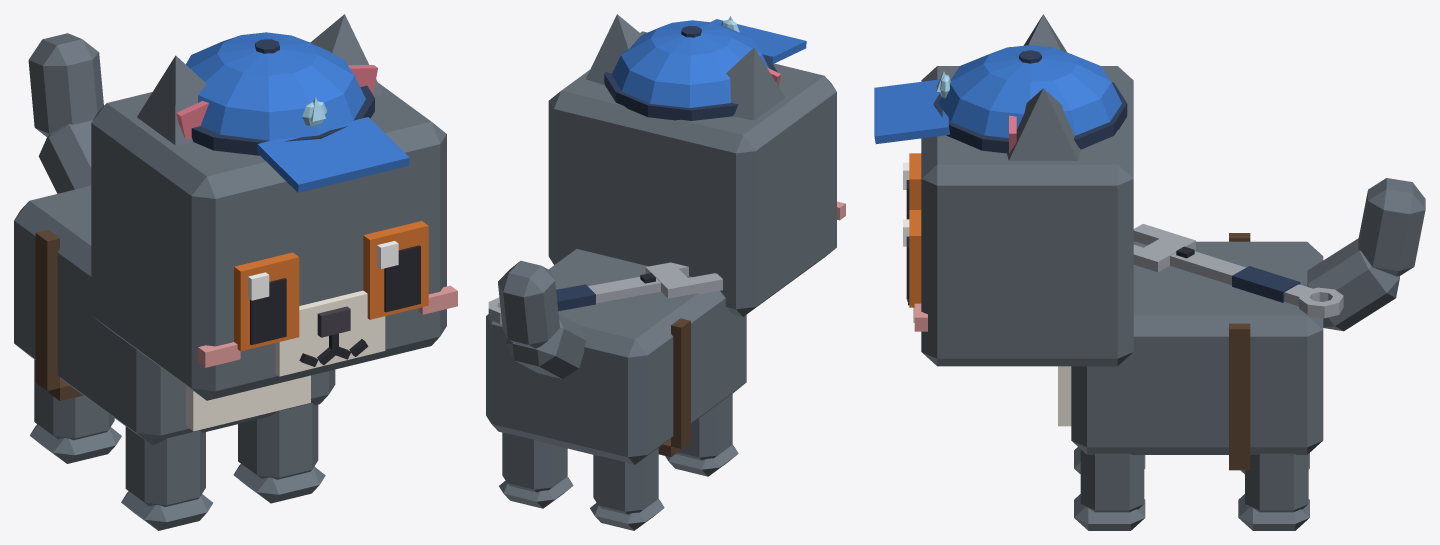
The model's file is CatCafe_Cat_Plumber.glb.
3 renders of one model, left to right at view 1: azimuth 30°, elevation 25°; view 2: azimuth 150°, elevation 25°; view 3: azimuth 270°, elevation 25°, orthographic. The views are drawn at different scales.
Visible parts, largest first — view 1: CatCafe_Cat_Plumber_Head, CatCafe_Cat_Plumber_Body, CatCafe_Cat_Plumber_Prop, CatCafe_Cat_Plumber_Tail, CatCafe_Cat_Plumber_LegF2, CatCafe_Cat_Plumber_LegF1, CatCafe_Cat_Plumber_Eye2, CatCafe_Cat_Plumber_Eye1, CatCafe_Cat_Plumber_LegB2, CatCafe_Cat_Plumber_Prop2, CatCafe_Cat_Plumber_EarR, CatCafe_Cat_Plumber_EarL; view 2: CatCafe_Cat_Plumber_Head, CatCafe_Cat_Plumber_Body, CatCafe_Cat_Plumber_Prop, CatCafe_Cat_Plumber_Tail, CatCafe_Cat_Plumber_Prop2, CatCafe_Cat_Plumber_LegB2, CatCafe_Cat_Plumber_LegB1, CatCafe_Cat_Plumber_LegF2, CatCafe_Cat_Plumber_EarR, CatCafe_Cat_Plumber_EarL; view 3: CatCafe_Cat_Plumber_Head, CatCafe_Cat_Plumber_Body, CatCafe_Cat_Plumber_Prop, CatCafe_Cat_Plumber_Prop2, CatCafe_Cat_Plumber_Tail, CatCafe_Cat_Plumber_LegF1, CatCafe_Cat_Plumber_LegB1, CatCafe_Cat_Plumber_EarL, CatCafe_Cat_Plumber_Eye1, CatCafe_Cat_Plumber_Eye2, CatCafe_Cat_Plumber_EarR.
Boxes of the visible parts, x1,y1,x2,y2 form: CatCafe_Cat_Plumber_Head: (91,82,457,400); CatCafe_Cat_Plumber_Body: (14,186,335,444); CatCafe_Cat_Plumber_Prop: (186,32,409,192); CatCafe_Cat_Plumber_Tail: (28,33,103,193); CatCafe_Cat_Plumber_LegF2: (121,426,212,530); CatCafe_Cat_Plumber_LegF1: (233,403,325,503); CatCafe_Cat_Plumber_Eye2: (234,252,299,351); CatCafe_Cat_Plumber_Eye1: (363,221,428,319); CatCafe_Cat_Plumber_LegB2: (30,359,121,463); CatCafe_Cat_Plumber_Prop2: (35,230,83,401); CatCafe_Cat_Plumber_EarR: (137,55,208,145); CatCafe_Cat_Plumber_EarL: (310,14,383,96); CatCafe_Cat_Plumber_Head: (548,31,845,316); CatCafe_Cat_Plumber_Body: (486,249,746,464); CatCafe_Cat_Plumber_Prop: (604,16,806,120); CatCafe_Cat_Plumber_Tail: (498,260,586,378); CatCafe_Cat_Plumber_Prop2: (488,262,722,457); CatCafe_Cat_Plumber_LegB2: (590,448,664,530); CatCafe_Cat_Plumber_LegB1: (499,432,573,508); CatCafe_Cat_Plumber_LegF2: (665,393,738,476); CatCafe_Cat_Plumber_EarR: (726,47,785,120); CatCafe_Cat_Plumber_EarL: (586,14,641,85); CatCafe_Cat_Plumber_Head: (907,66,1133,366); CatCafe_Cat_Plumber_Body: (1058,241,1323,454); CatCafe_Cat_Plumber_Prop: (874,45,1127,153); CatCafe_Cat_Plumber_Prop2: (1133,224,1343,470); CatCafe_Cat_Plumber_Tail: (1307,178,1425,331); CatCafe_Cat_Plumber_LegF1: (1074,449,1145,530); CatCafe_Cat_Plumber_LegB1: (1238,453,1309,530); CatCafe_Cat_Plumber_EarL: (1007,88,1080,160); CatCafe_Cat_Plumber_Eye1: (903,210,921,307); CatCafe_Cat_Plumber_Eye2: (903,153,921,219); CatCafe_Cat_Plumber_EarR: (1009,14,1067,52).
Bounding box in the file's own units: 1 × 1.86 × 2.08.
Materials: 1 (1 with a texture image).
